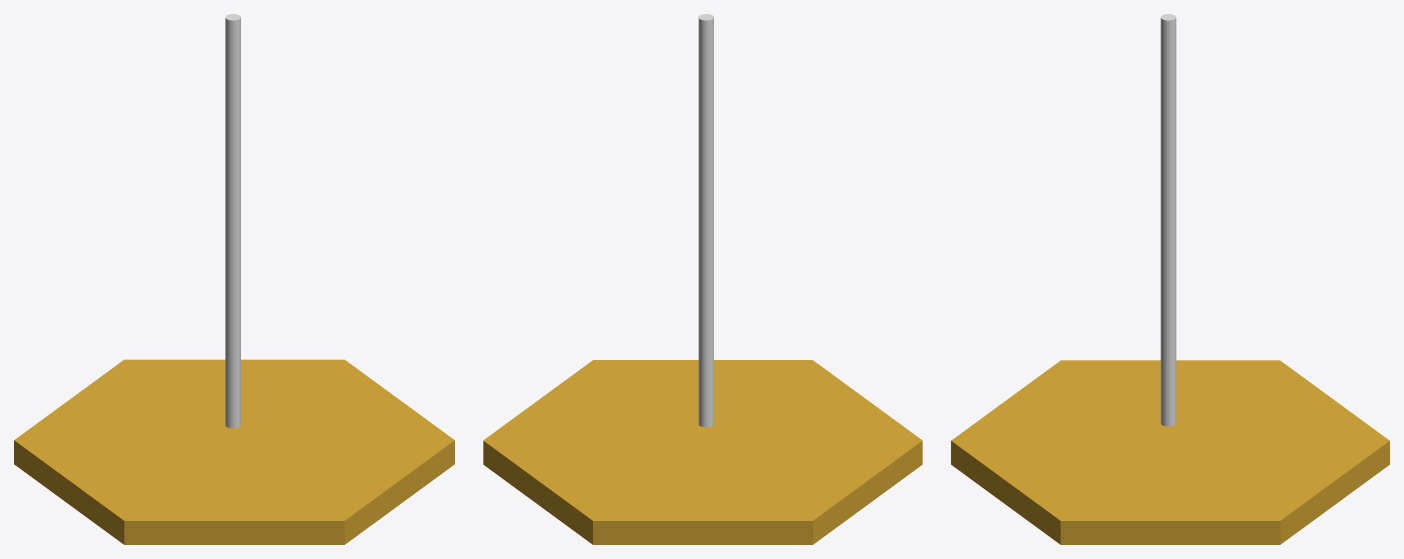
The model's file is OrerryPole.fbx.
3 views of the same model, side by side, from view 1: azimuth 30°, elevation 25°; view 2: azimuth 150°, elevation 25°; view 3: azimuth 270°, elevation 25° (orthographic).
Parts seen in each view (by area): view 1: H Orrery, C Viewfinder.001; view 2: H Orrery, C Viewfinder.001; view 3: H Orrery, C Viewfinder.001.
Boxes of the visible parts, bbox=[...] form: H Orrery: bbox=[14, 359, 454, 544]; C Viewfinder.001: bbox=[225, 14, 240, 428]; H Orrery: bbox=[483, 360, 922, 544]; C Viewfinder.001: bbox=[698, 14, 713, 427]; H Orrery: bbox=[951, 360, 1389, 544]; C Viewfinder.001: bbox=[1160, 14, 1176, 426].
Bounding box in the file's own units: 283 × 367 × 327.
